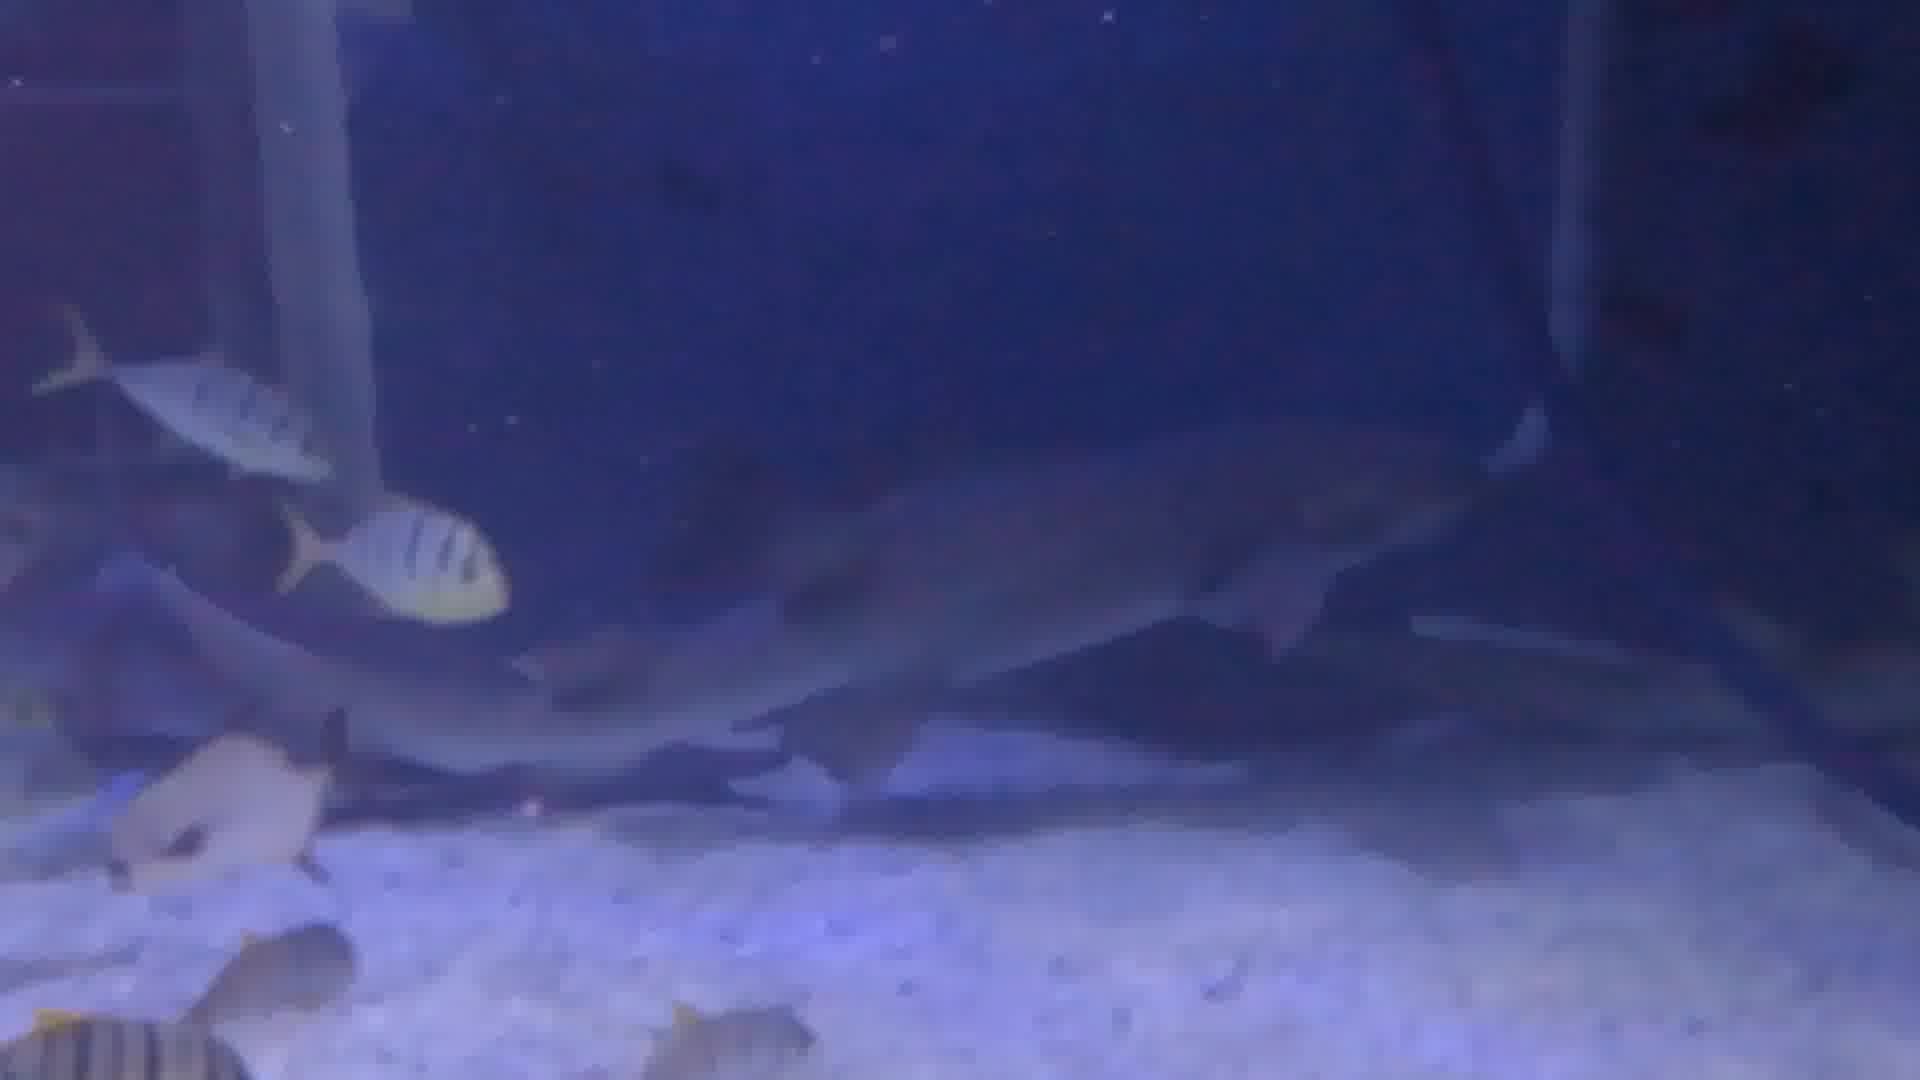Nebrius ferrugineus: (723, 357, 1531, 774)
